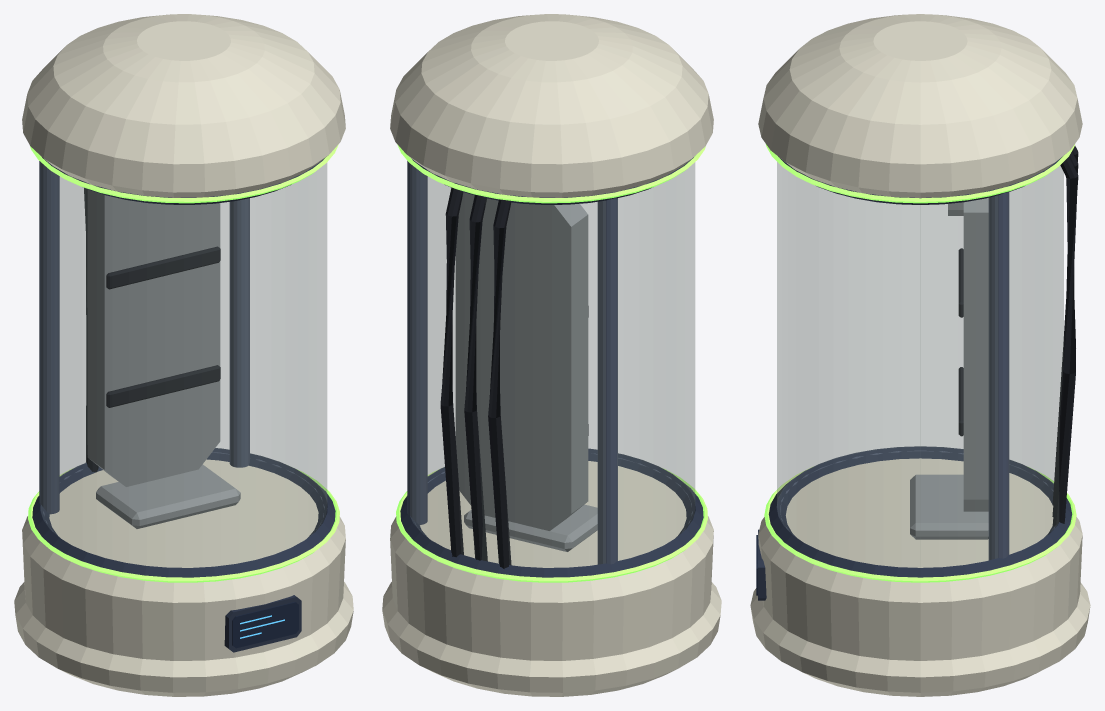
Rendered from bw_regen_pod.glb.
The picture shows the model from 3 angles, left to right: view 1: azimuth 30°, elevation 25°; view 2: azimuth 150°, elevation 25°; view 3: azimuth 270°, elevation 25°; orthographic projection.
Parts seen in each view (by area): view 1: fixed_glass, crown, head_pad, coupling, bezel, belt, light_guide, instrument_glass; view 2: crown, fixed_glass, head_pad, coupling, belt, bezel, light_guide; view 3: crown, fixed_glass, head_pad, bezel, coupling, belt, light_guide.
Boxes of the visible parts, x1,y1,x2,y2 form: fixed_glass: [41, 163, 326, 567]; crown: [14, 14, 353, 696]; head_pad: [87, 189, 240, 528]; coupling: [39, 161, 324, 537]; bezel: [32, 157, 335, 652]; belt: [84, 188, 220, 472]; light_guide: [28, 144, 339, 582]; instrument_glass: [232, 602, 298, 648]; crown: [382, 14, 721, 696]; fixed_glass: [410, 163, 694, 567]; head_pad: [455, 192, 597, 551]; coupling: [407, 161, 692, 564]; belt: [440, 187, 588, 568]; bezel: [400, 157, 703, 577]; light_guide: [396, 144, 707, 582]; crown: [750, 14, 1090, 696]; fixed_glass: [777, 162, 1063, 567]; head_pad: [910, 198, 988, 539]; bezel: [758, 156, 1072, 600]; coupling: [780, 192, 1054, 560]; belt: [958, 146, 1078, 526]; light_guide: [764, 144, 1076, 582].
Bounding box in the file's own units: 1.3 × 2.5 × 1.3.
